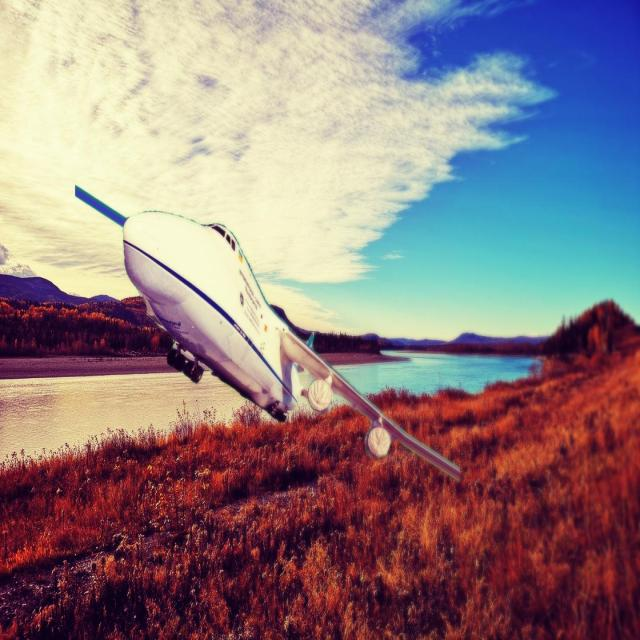airplane: (74, 183, 461, 482)
